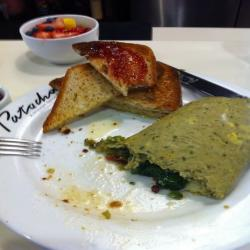bread: (39, 40, 185, 134)
omelette: (118, 97, 250, 201)
